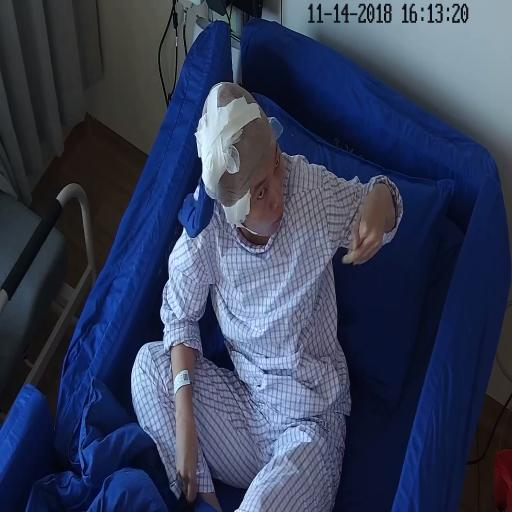Seizure: (213, 116, 290, 241)
